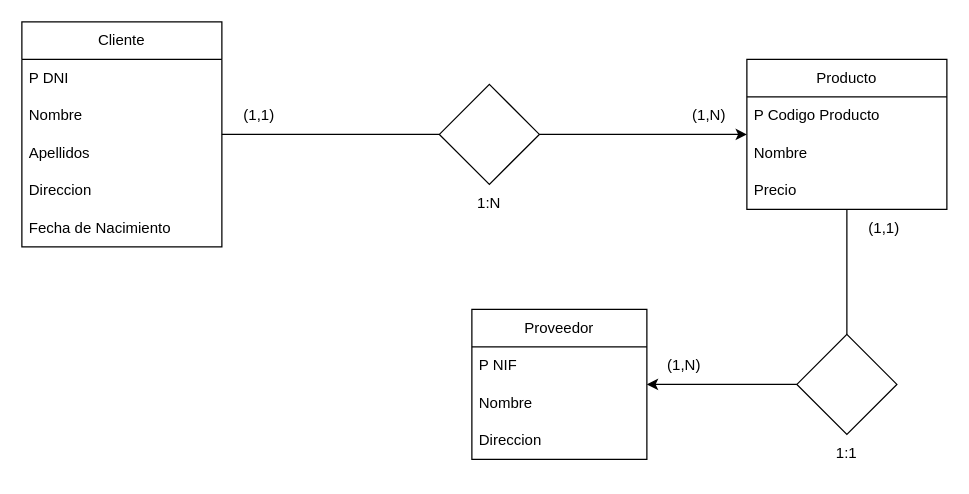
This 969x494 diagram has some shape labels left out. The shapes that lost their labels are listed below. From the top down, each one's centre as x and y in pixels, then its label:
At point 488,133: "Comprar".
At point 846,383: "Provee".
